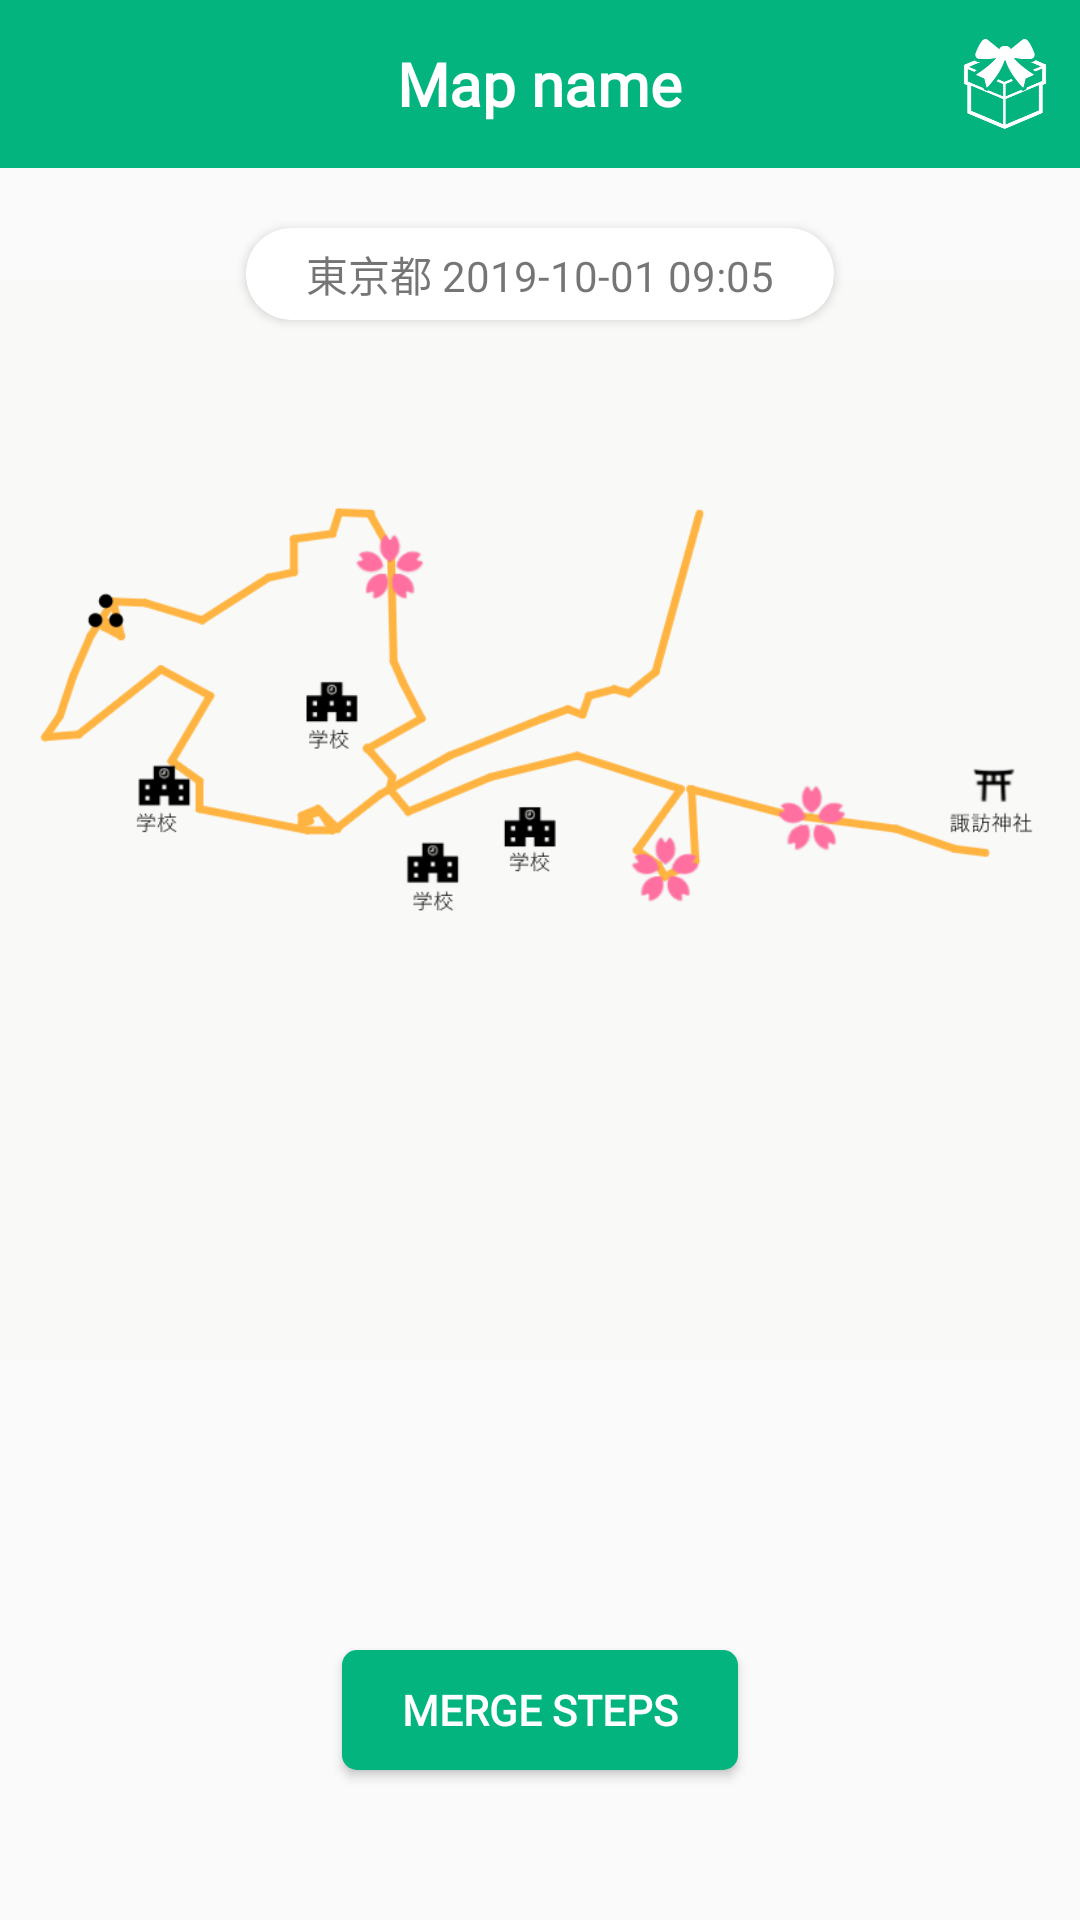

Screen size 1080px x 1920px. Icon name, then its box in pixels as Rect(x1, y1, x2, y2):
gift: Rect(964, 39, 1046, 129)
